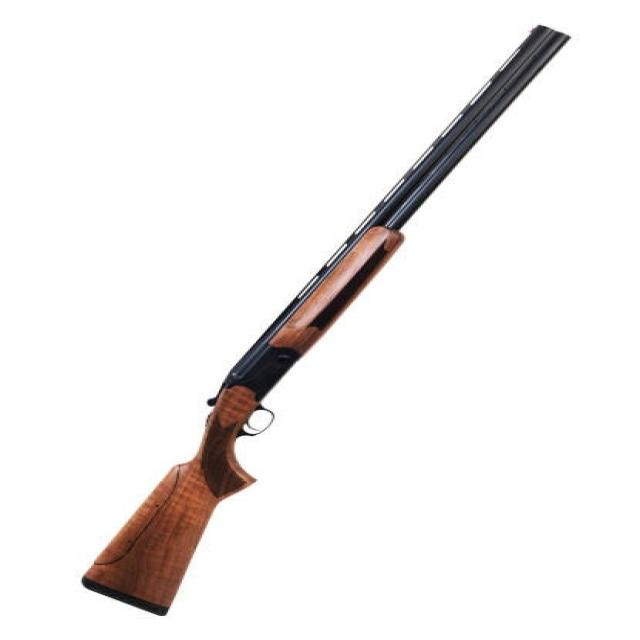rifle: (74, 27, 577, 617)
